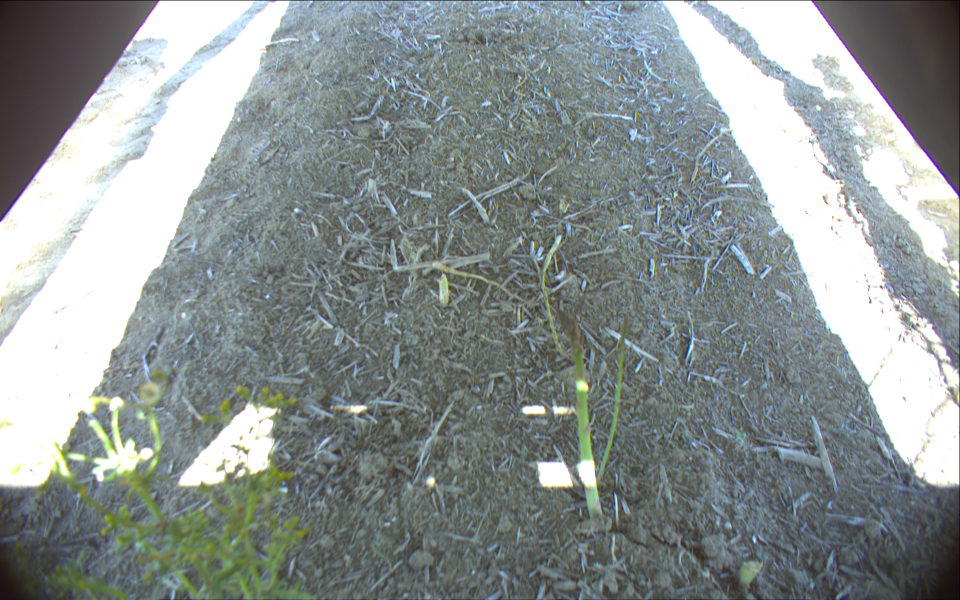aspa: (547, 304, 605, 525), (592, 312, 630, 487)
